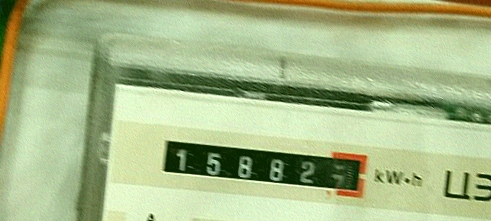1: (173, 146, 190, 172)
2: (299, 157, 317, 185)
5: (204, 149, 223, 176)
7: (330, 171, 345, 188)
8: (235, 153, 255, 179), (267, 155, 286, 181)
screen: (148, 123, 379, 208)
